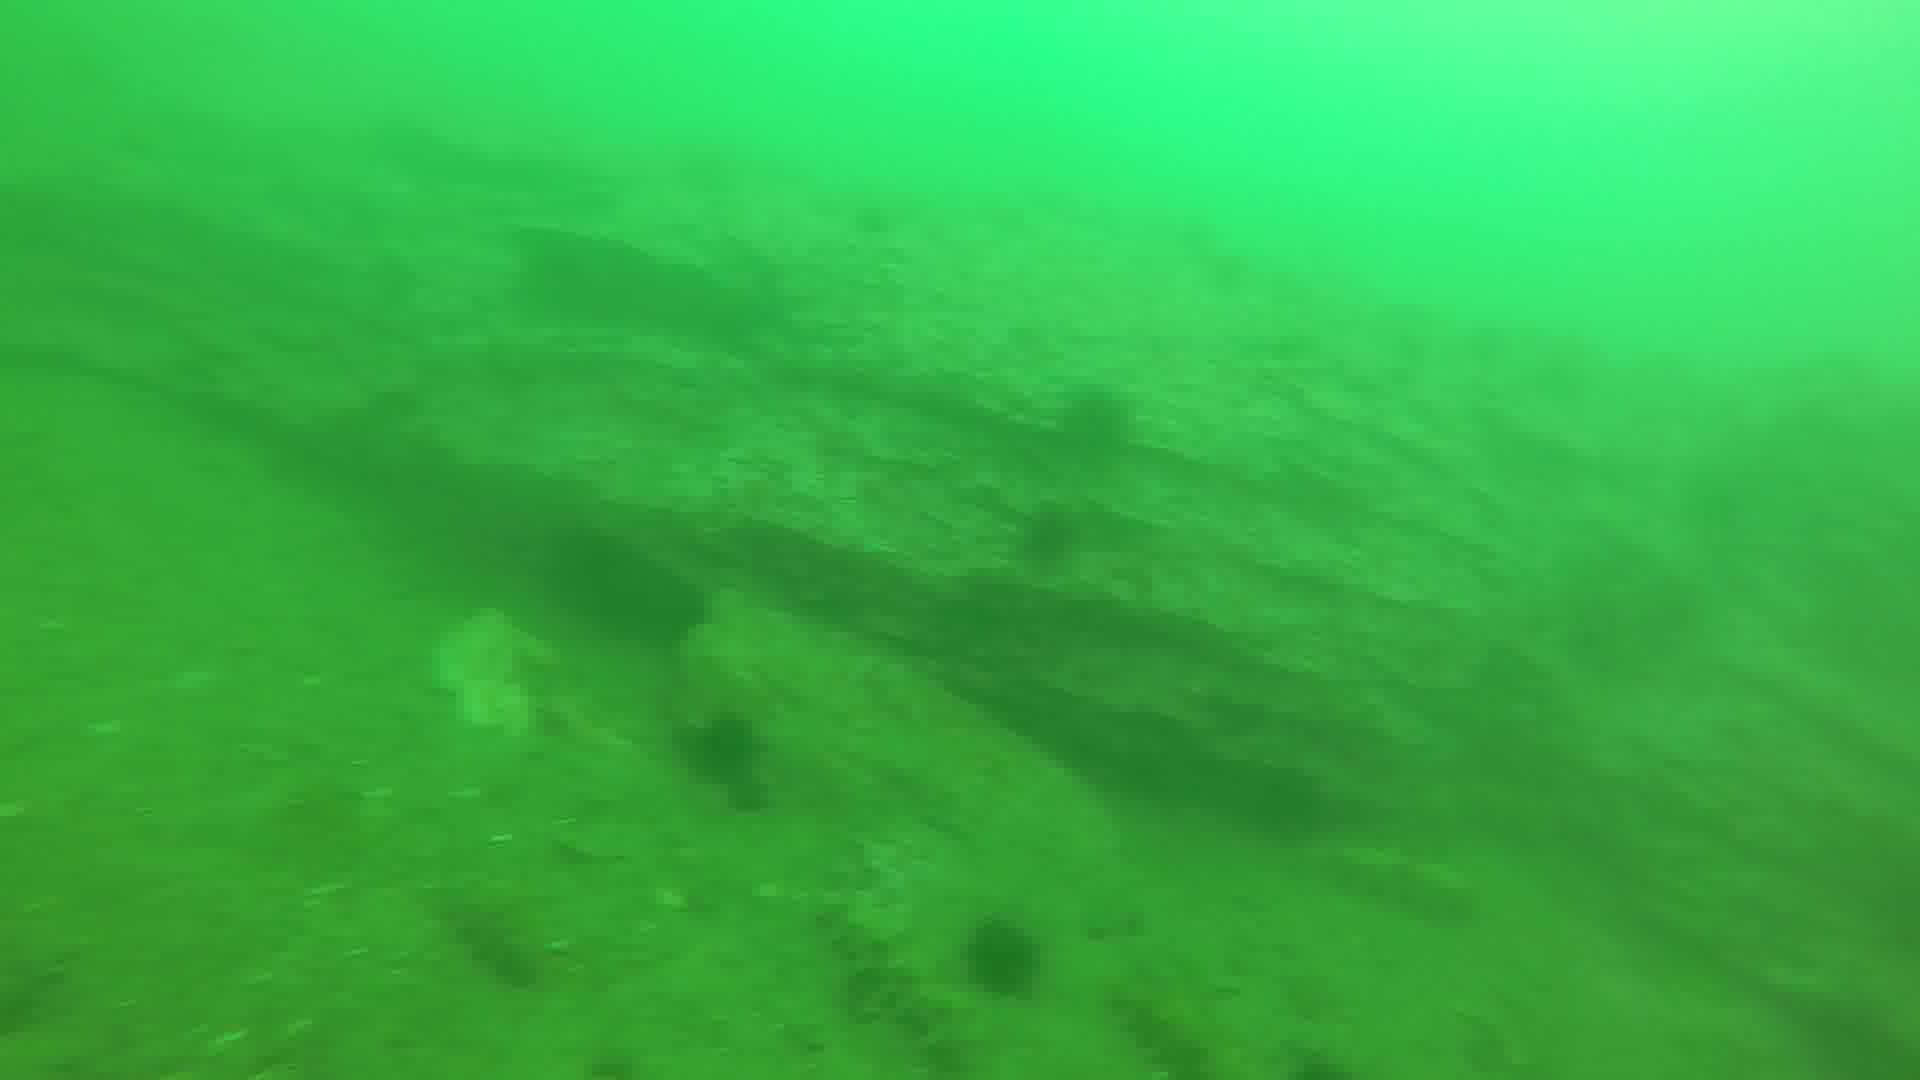echinus: (961, 909, 1048, 1005), (1065, 388, 1138, 487), (1015, 496, 1098, 578), (694, 708, 766, 800)
holothurian: (816, 881, 977, 1080), (417, 858, 547, 996), (1309, 837, 1476, 924), (1104, 959, 1218, 1080)
